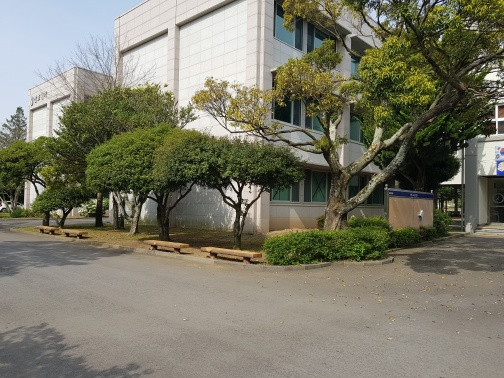College of Nursing: (108, 13, 418, 217), (19, 62, 96, 193)
